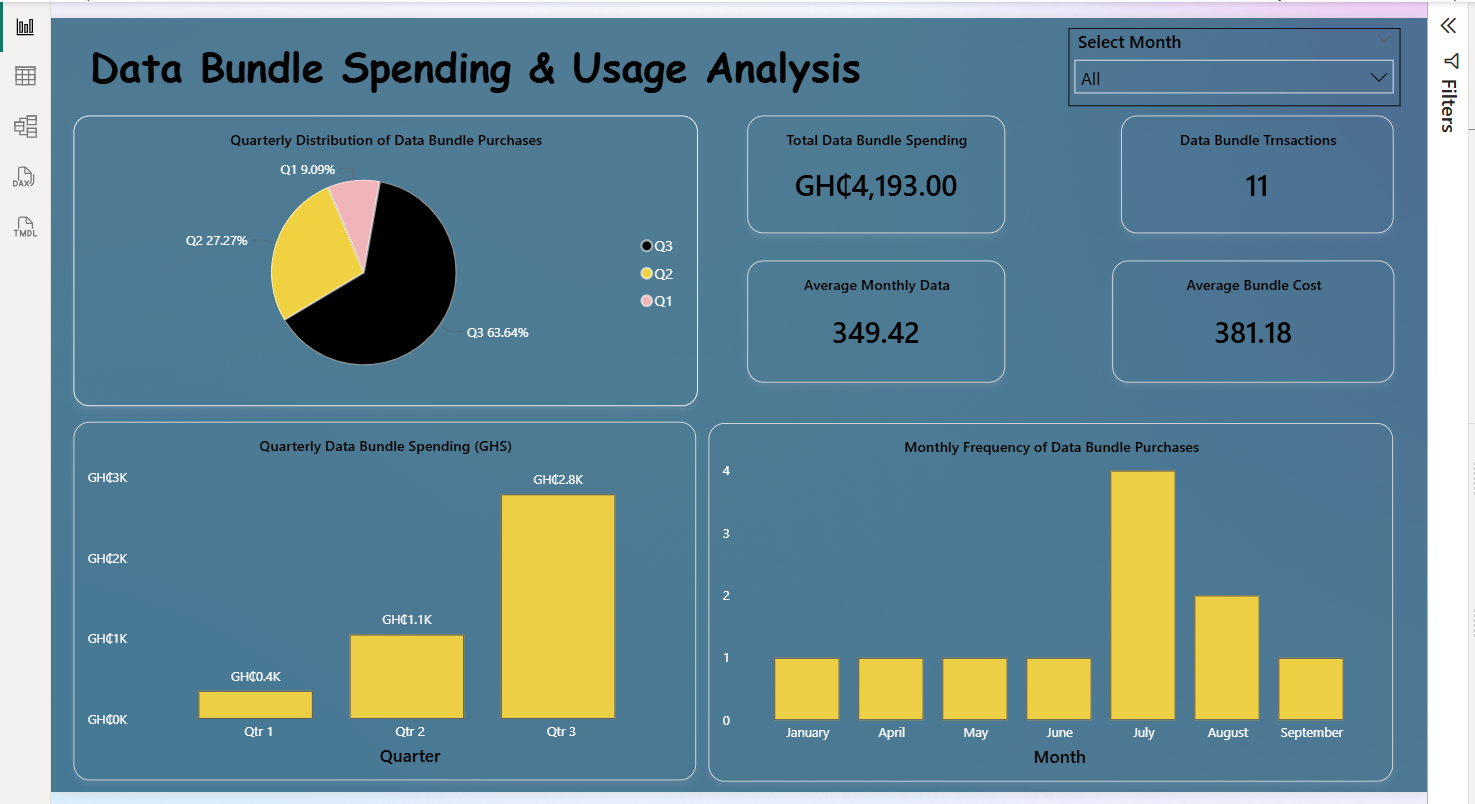

The page's visual inventory and layout, read from the dashboard file:
{"tool":"powerbi","page":{"name":"Data Bundle","canvas":[1280,720],"ordinal":1},"visuals":[{"type":"card","title":"Data Bundle Trnsactions","fields":{"Values":["Calculated Measures.Total Data Bundle Transactions"]},"box":[995.5,91.2,253.6,109.9],"z":0},{"type":"card","title":"Total Data Bundle Spending","fields":{"Values":["Calculated Measures.Total Data Bundle Spending"]},"box":[648.2,91.2,239.8,109.9],"z":1000},{"type":"card","title":"Average Monthly Data","fields":{"Values":["Calculated Measures.Average Monthly Data Spending"]},"box":[648.2,226.1,239.8,113.7],"z":2000},{"type":"card","title":"Average Bundle Cost","fields":{"Values":["Calculated Measures.Average Bundle Cost"]},"box":[986.7,226.1,262.3,113.7],"z":3000},{"type":"clusteredColumnChart","title":"Monthly Frequency of Data Bundle Purchases","fields":{"Y":["Calculated Measures.Total Bundle Purchases"],"Category":["MoMo_Transactions.TRANSACTION DATE.Variation.Date Hierarchy.Month"]},"box":[612,377.2,637,333.5],"z":4000},{"type":"clusteredColumnChart","title":"Quarterly Data Bundle Spending (GHS)","fields":{"Y":["Calculated Measures.Total Data Bundle Spending"],"Category":["MoMo_Transactions.TRANSACTION DATE.Variation.Date Hierarchy.Quarter"]},"box":[21.2,376,579.5,333.5],"z":5000},{"type":"pieChart","title":"Quarterly Distribution of Data Bundle Purchases","fields":{"Category":["MoMo_Transactions.Quarter"],"Y":["Calculated Measures.Total Bundle Purchases"]},"box":[20.6,90.6,580.4,270.3],"z":6000},{"type":"textbox","box":[31.4,14,954.7,64],"z":7000},{"type":"slicer","title":"Select Month","fields":{"Values":["MoMo_Transactions.Month Name"]},"box":[946.8,8.7,308.5,72.4],"z":8000}]}

Visuals, with their boxes on the page's 1280x720 design canvas (x1, y1, x2, y2). These are canvas units, not pixel positions in the 1475x804 screenshot, which may show the page scaled, cropped or inside an application window:
"Data Bundle Trnsactions" card: (996, 91, 1249, 201)
"Total Data Bundle Spending" card: (648, 91, 888, 201)
"Average Monthly Data" card: (648, 226, 888, 340)
"Average Bundle Cost" card: (987, 226, 1249, 340)
"Monthly Frequency of Data Bundle Purchases" clusteredColumnChart: (612, 377, 1249, 711)
"Quarterly Data Bundle Spending (GHS)" clusteredColumnChart: (21, 376, 601, 710)
"Quarterly Distribution of Data Bundle Purchases" pieChart: (21, 91, 601, 361)
textbox: (31, 14, 986, 78)
"Select Month" slicer: (947, 9, 1255, 81)
